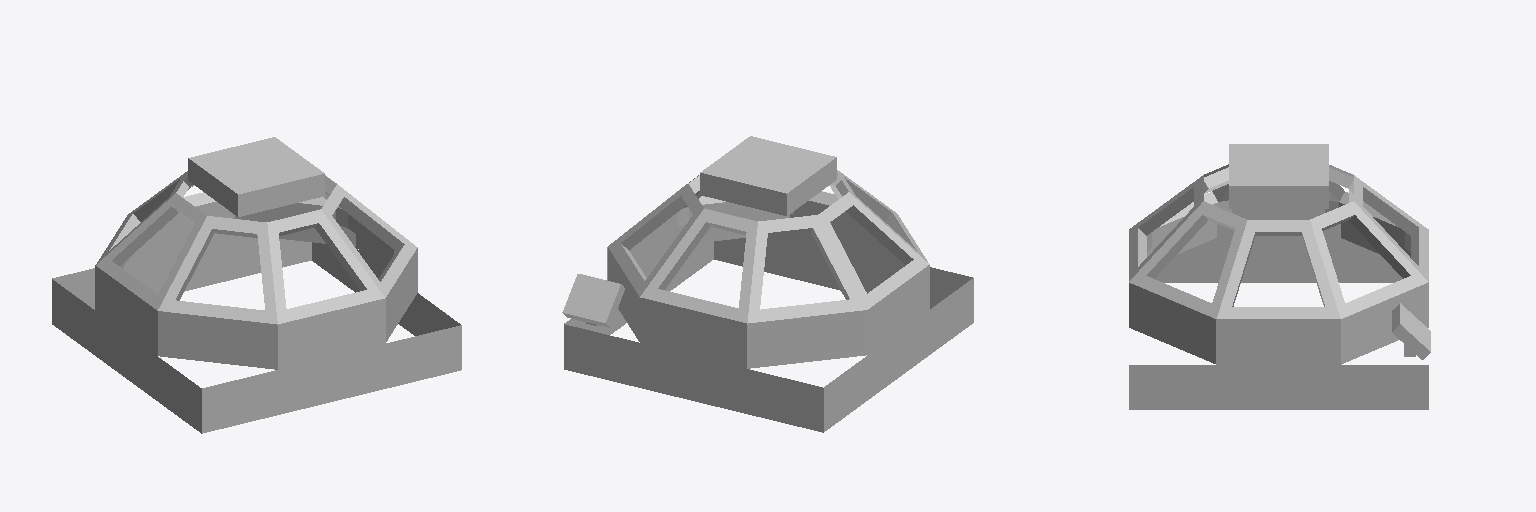
File: separator_wireframe.obj
3 views of the same model, side by side, from view 1: azimuth 30°, elevation 25°; view 2: azimuth 150°, elevation 25°; view 3: azimuth 270°, elevation 25° (orthographic).
Parts seen in each view (by area): view 1: frame, input_port; view 2: frame, input_port, screen; view 3: frame, input_port, screen.
Part boxes in pixels (left/top/right/bottom): frame: left=52, top=171, right=461, bottom=433; input_port: left=188, top=137, right=324, bottom=216; frame: left=564, top=170, right=973, bottom=432; input_port: left=700, top=136, right=836, bottom=215; screen: left=562, top=274, right=624, bottom=327; frame: left=1129, top=164, right=1428, bottom=409; input_port: left=1229, top=144, right=1328, bottom=208; screen: left=1392, top=303, right=1430, bottom=359.
Bounding box in the file's own units: 3 × 2 × 3.03.